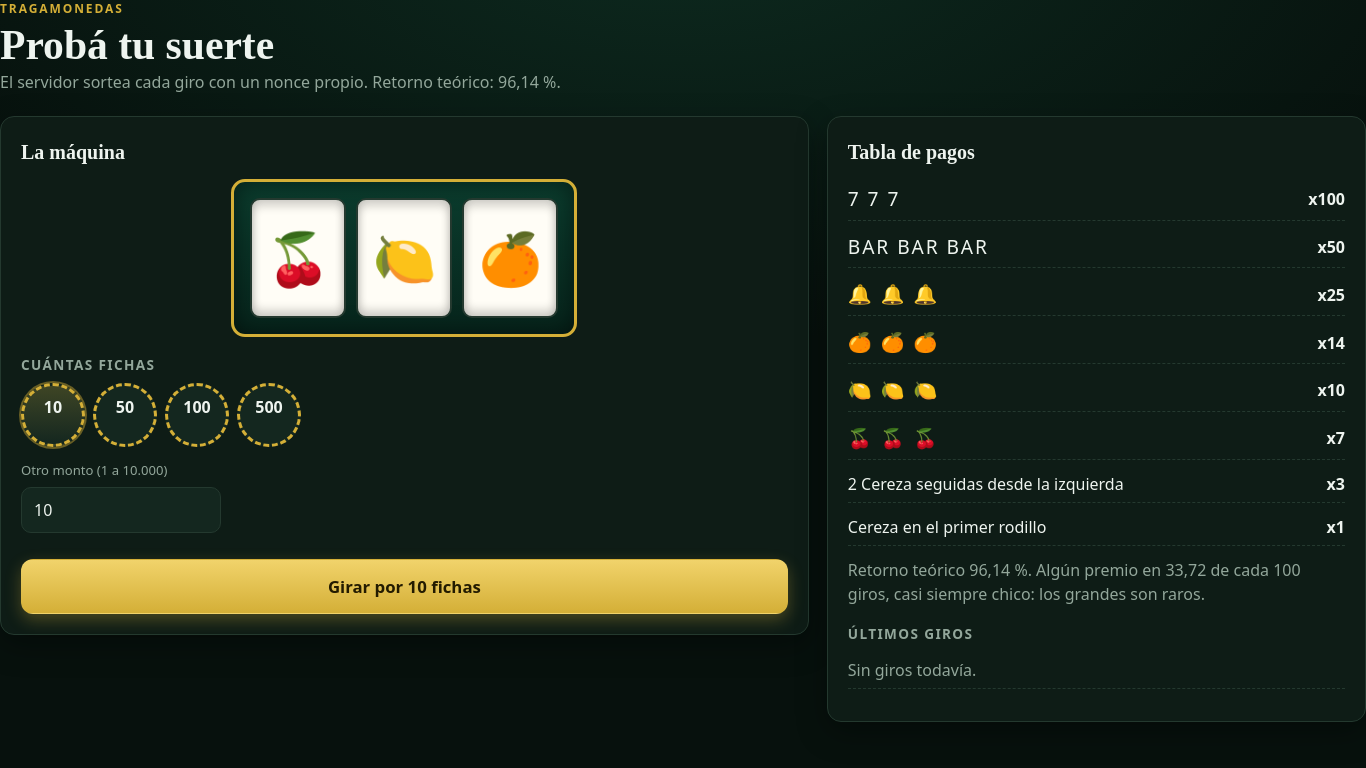
Test case: Slots › spins with an idempotency key, stops the reels on what the server drew and shows the result
Expected: the button "Girar por 10 fichas" is enabled, [21,559,788,614]
Click the radio button labelled "50" at (125, 415), box [93,383,157,447]
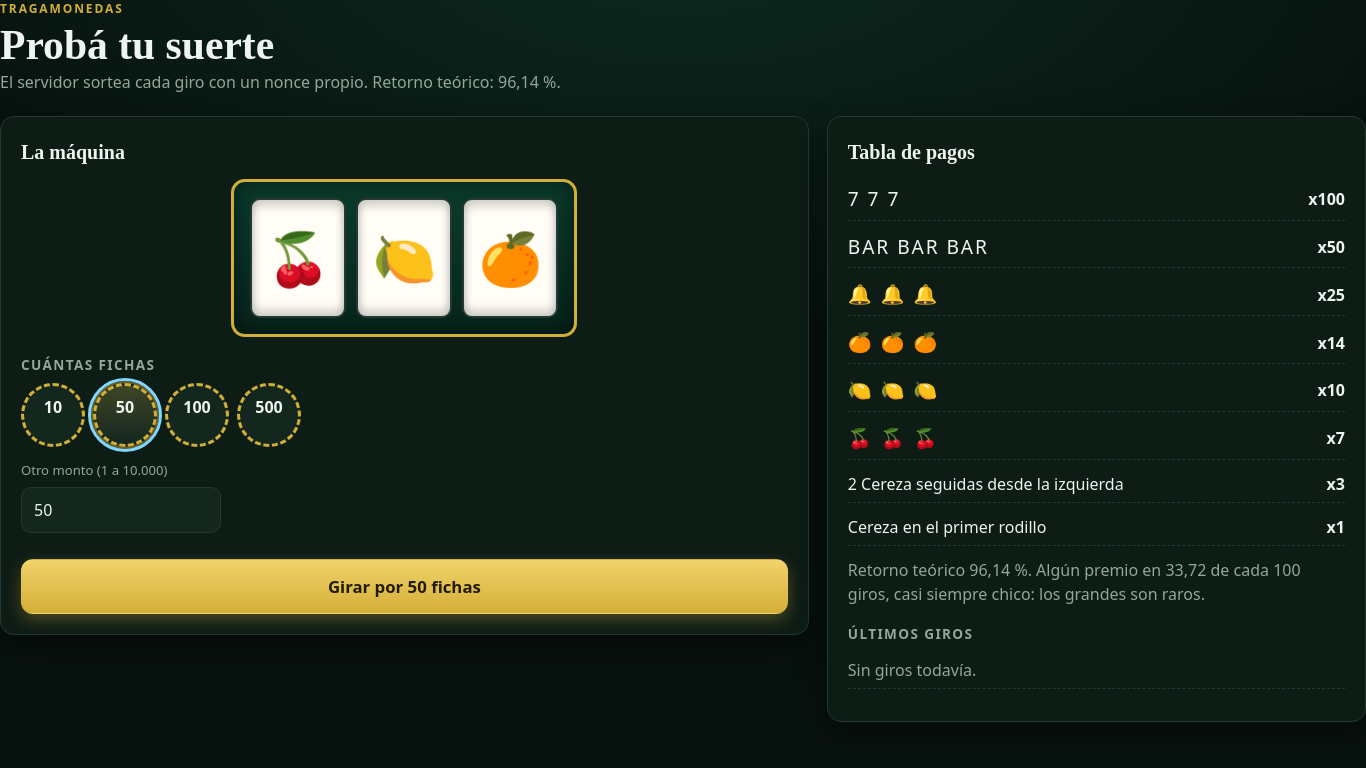
Click the button "Girar por 50 fichas" at (404, 586), box [21,559,788,614]
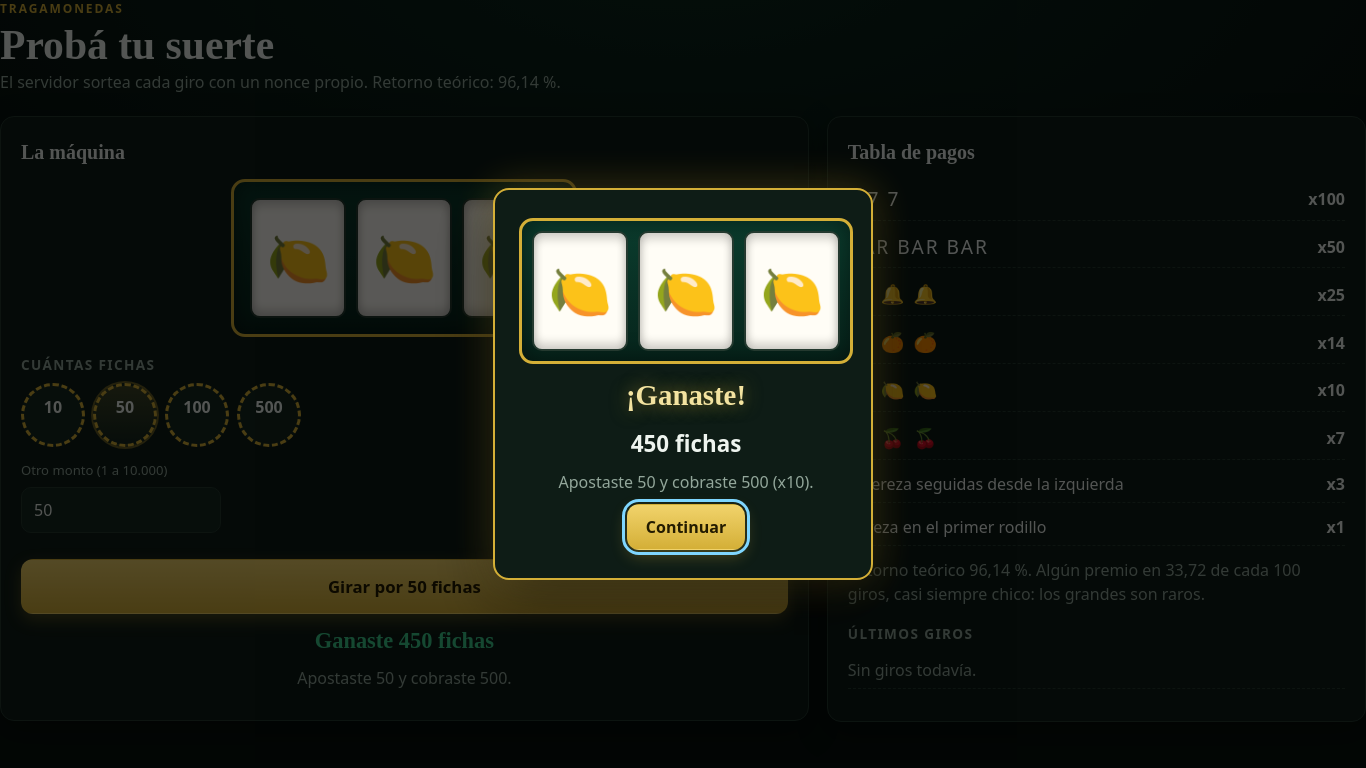
Result: the dialog "¡Ganaste!" is shown
Result: the text "450 fichas" is shown at [631,427,741,460]
